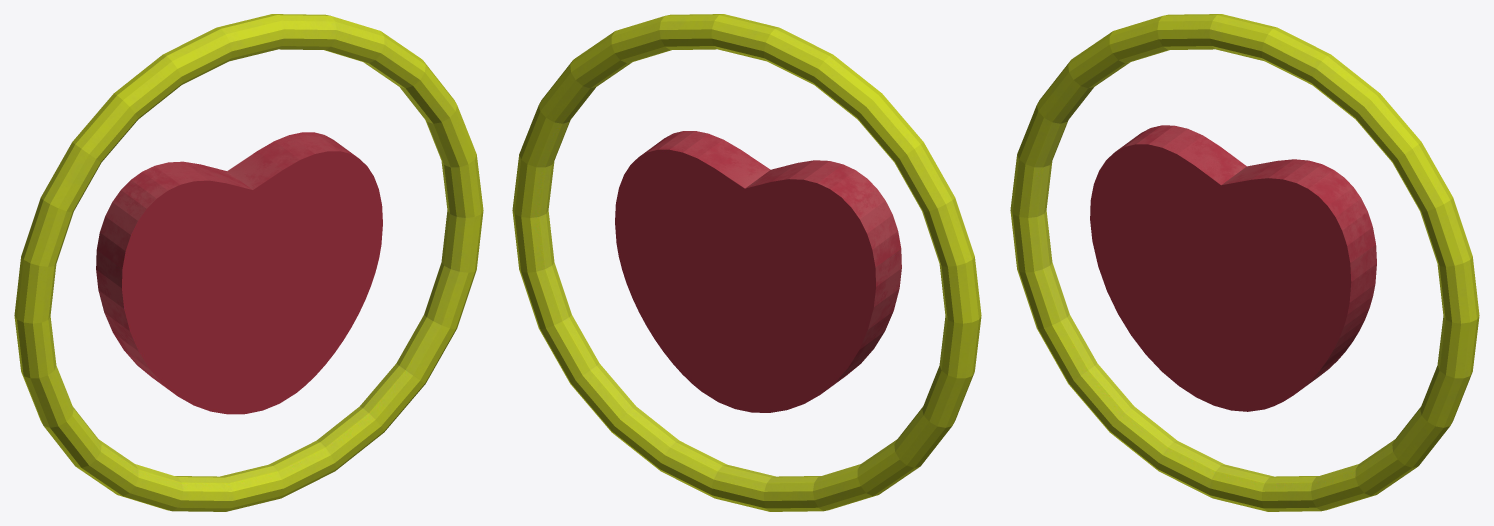
The model's file is serdce.fbx.
3 views of the same model, side by side, from view 1: azimuth 30°, elevation 25°; view 2: azimuth 150°, elevation 25°; view 3: azimuth 330°, elevation 25° (orthographic).
Visible parts, largest first — view 1: Torus.003; view 2: Torus.003; view 3: Torus.003.
Part boxes in pixels (bbox=[...]): Torus.003: bbox=[14, 14, 483, 511]; Torus.003: bbox=[512, 14, 981, 511]; Torus.003: bbox=[1010, 14, 1479, 511].
Bounding box in the file's own units: 253 × 251 × 24.36.
